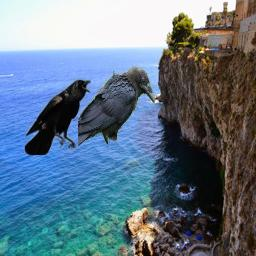Crow: (78, 66, 155, 146), (24, 78, 91, 155)
